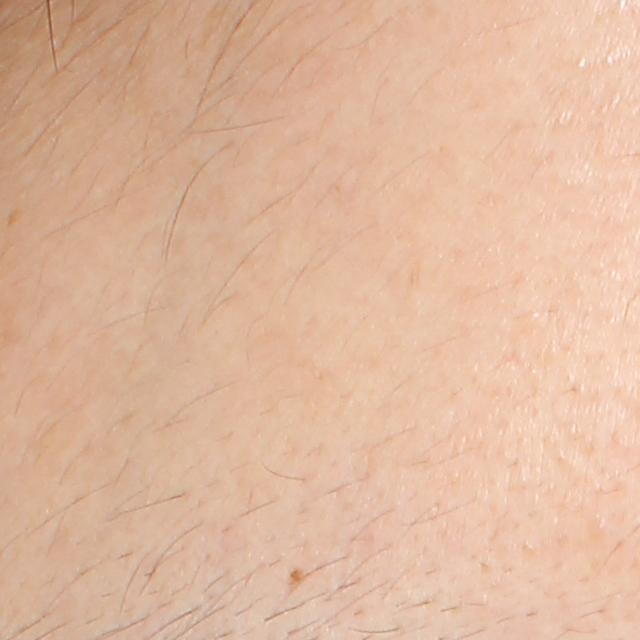nevus: (289, 567, 306, 585)
